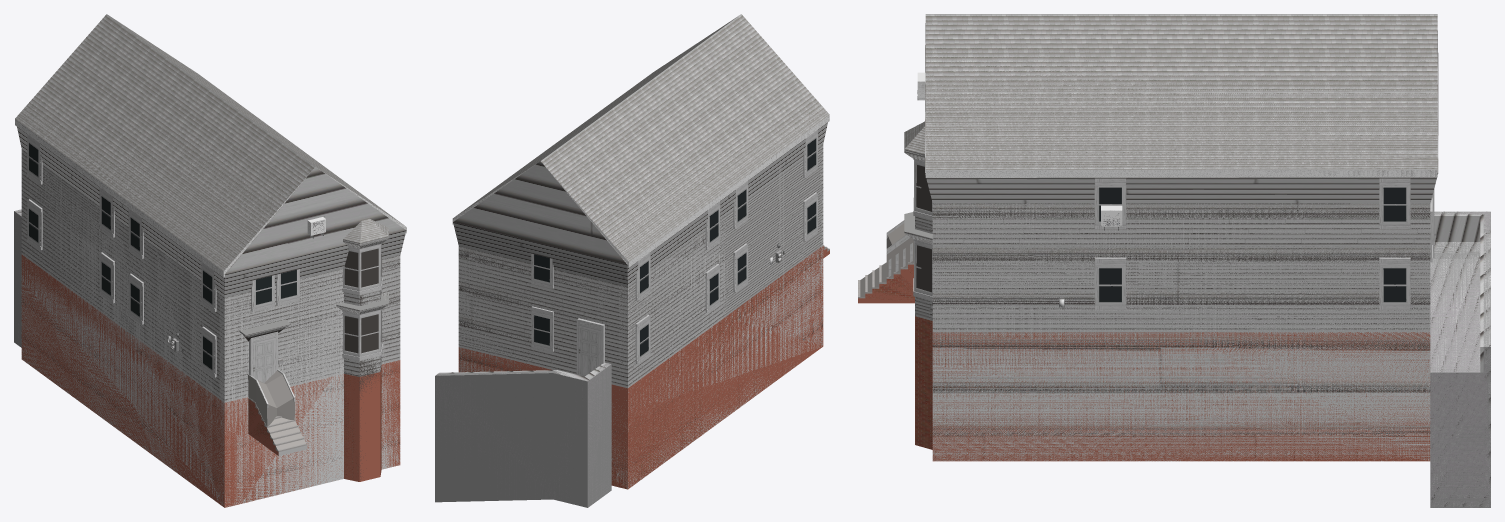
Rendered from eca_bld_house_05_a.dae.
3 views of the same model, side by side, from view 1: azimuth 30°, elevation 25°; view 2: azimuth 150°, elevation 25°; view 3: azimuth 270°, elevation 25° (orthographic). The views are drawn at different scales.
Parts seen in each view (by area): view 1: eca_bld_house_05_a_a350, eca_bld_house_05_a_a800, eca_bld_house_05_a_a20, Colmesh-1; view 2: eca_bld_house_05_a_a350, eca_bld_house_05_a_a800, Colmesh-1, eca_bld_house_05_a_a20; view 3: eca_bld_house_05_a_a350, Colmesh-1, eca_bld_house_05_a_a800, eca_bld_house_05_a_a20.
Part boxes in pixels (bbox=[...]): eca_bld_house_05_a_a350: bbox=[14, 88, 406, 507]; eca_bld_house_05_a_a800: bbox=[14, 14, 406, 506]; eca_bld_house_05_a_a20: bbox=[21, 150, 400, 507]; Colmesh-1: bbox=[14, 127, 406, 505]; eca_bld_house_05_a_a350: bbox=[435, 98, 829, 507]; eca_bld_house_05_a_a800: bbox=[435, 14, 829, 504]; Colmesh-1: bbox=[438, 122, 828, 488]; eca_bld_house_05_a_a20: bbox=[458, 147, 823, 487]; eca_bld_house_05_a_a350: bbox=[858, 32, 1490, 507]; Colmesh-1: bbox=[860, 23, 1490, 507]; eca_bld_house_05_a_a800: bbox=[858, 14, 1490, 507]; eca_bld_house_05_a_a20: bbox=[932, 203, 1430, 461].
Bounding box in the file's own units: 7.6 × 17.8 × 13.7.
